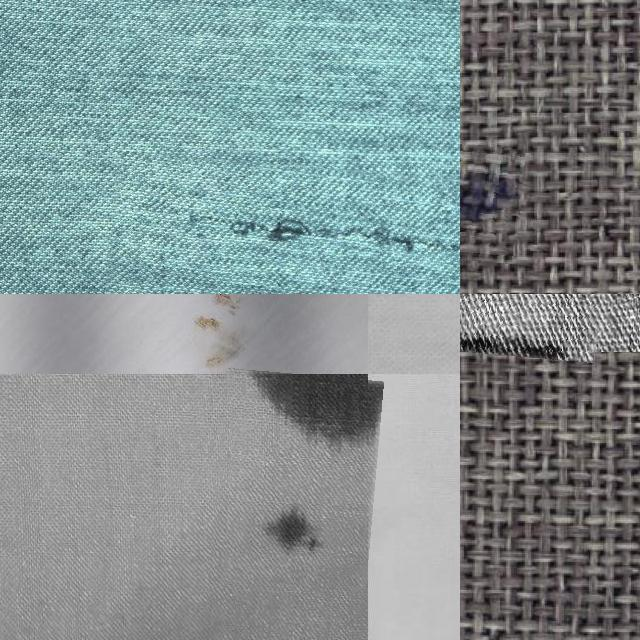Thread_other: (201, 370, 376, 640), (168, 294, 280, 373), (460, 294, 600, 356), (460, 143, 523, 262)
stains: (106, 158, 460, 294)
